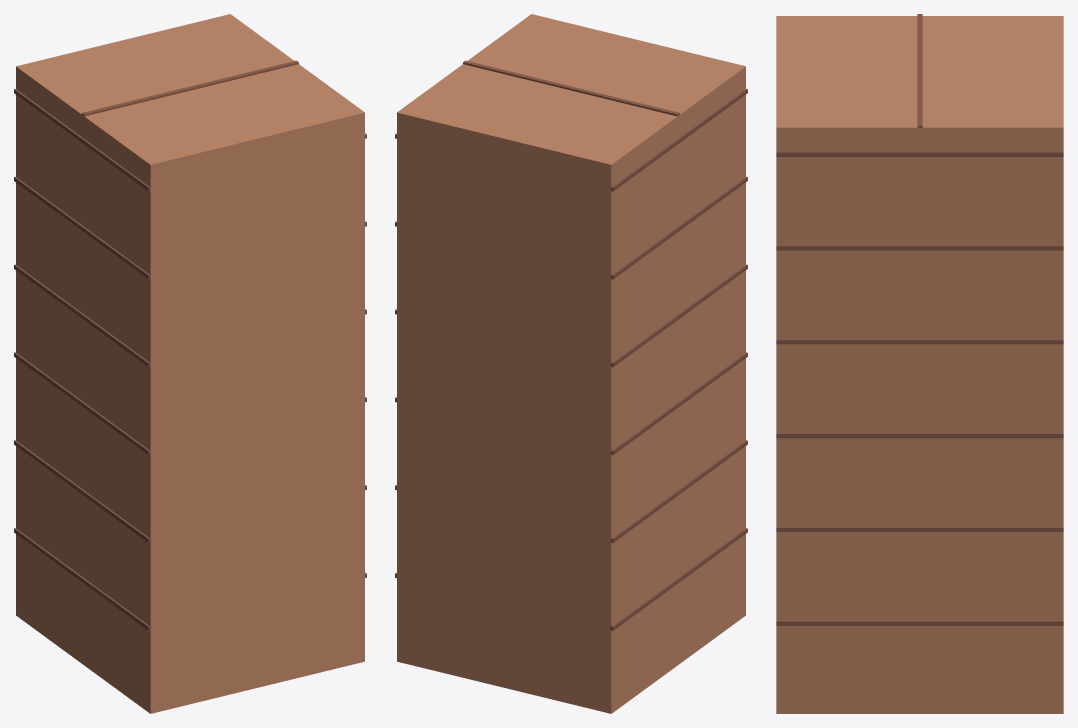
File: terrain-wall-c68b6b.glb
The picture shows the model from 3 angles, left to right: view 1: azimuth 30°, elevation 25°; view 2: azimuth 150°, elevation 25°; view 3: azimuth 270°, elevation 25°; orthographic projection. The views are drawn at different scales.
Visible parts, largest first — view 1: terrain-wall-c68b6b; view 2: terrain-wall-c68b6b; view 3: terrain-wall-c68b6b.
Part boxes in pixels (left/top/right/bottom): terrain-wall-c68b6b: left=14, top=14, right=366, bottom=713; terrain-wall-c68b6b: left=395, top=14, right=747, bottom=713; terrain-wall-c68b6b: left=776, top=14, right=1063, bottom=713.
Bounding box in the file's own units: 0.936 × 2.26 × 1.
